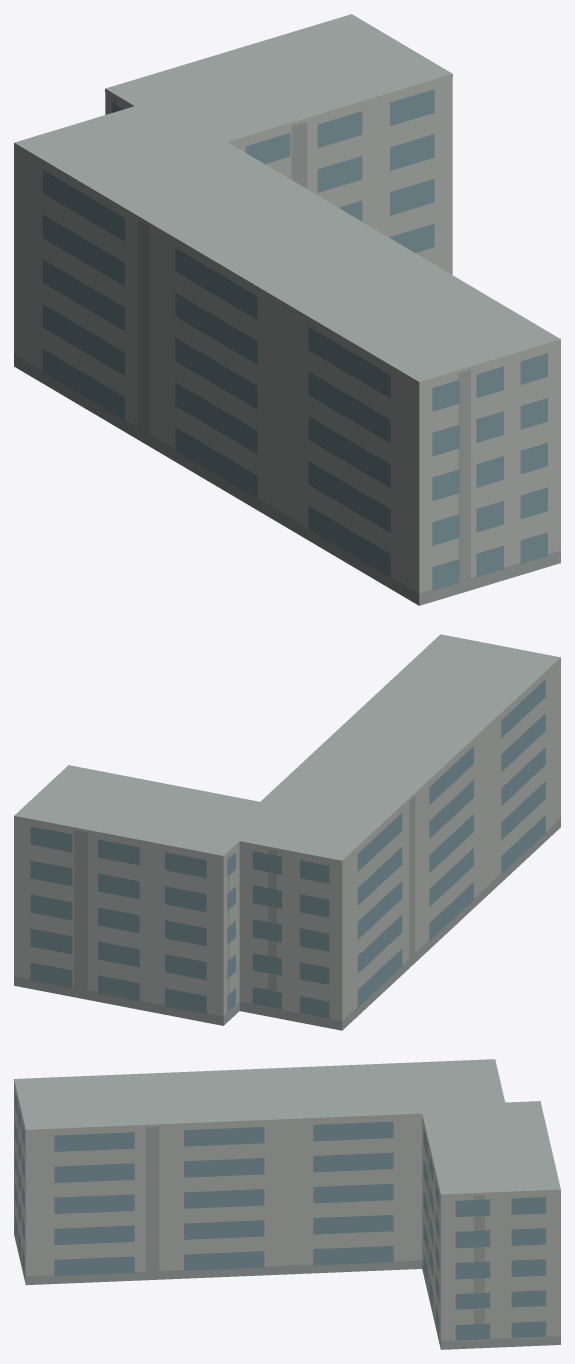
File: residential-cb6da4ac-a65e-4c6f-915c-9c9483fac402.glb
The picture shows the model from 3 angles, top to bottom: view 1: azimuth 30°, elevation 25°; view 2: azimuth 150°, elevation 25°; view 3: azimuth 270°, elevation 25°; orthographic projection. The views are drawn at different scales.
Parts seen in each view (by area): view 1: residential-cb6da4ac-a65e-4c6f-915c-9c9483fac402.tmp; view 2: residential-cb6da4ac-a65e-4c6f-915c-9c9483fac402.tmp; view 3: residential-cb6da4ac-a65e-4c6f-915c-9c9483fac402.tmp.
Boxes of the visible parts, <box> form: residential-cb6da4ac-a65e-4c6f-915c-9c9483fac402.tmp: <box>14,14,560,605</box>; residential-cb6da4ac-a65e-4c6f-915c-9c9483fac402.tmp: <box>14,634,560,1030</box>; residential-cb6da4ac-a65e-4c6f-915c-9c9483fac402.tmp: <box>14,1059,560,1349</box>.
Size of the model in its own units: 28.5 by 15.25 by 48.66.
